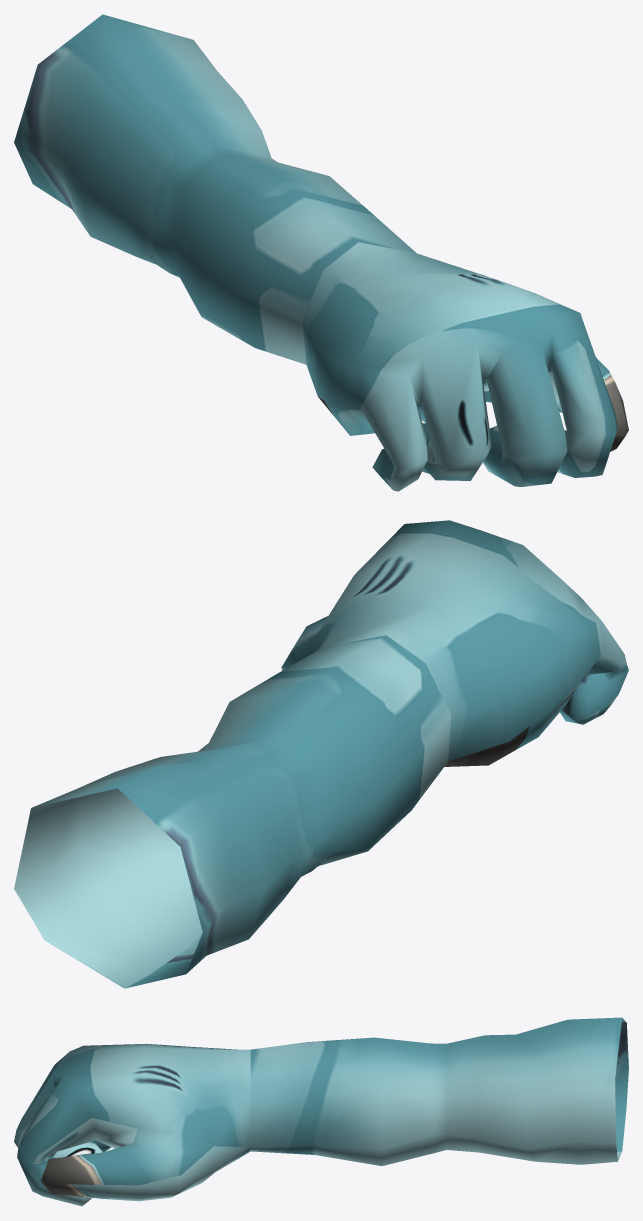
File: eff_mesh_xiaoquanquan_02.FBX
The picture shows the model from 3 angles, top to bottom: view 1: azimuth 30°, elevation 25°; view 2: azimuth 150°, elevation 25°; view 3: azimuth 270°, elevation 25°; orthographic projection. The views are drawn at different scales.
Parts seen in each view (by area): view 1: Pet_wanli; view 2: Pet_wanli; view 3: Pet_wanli.
Boxes of the visible parts, x1,y1,x2,y2 form: Pet_wanli: (14,14,628,491); Pet_wanli: (14,520,628,988); Pet_wanli: (14,1017,628,1206).
Bounding box in the file's own units: 0.1307 × 0.1009 × 0.3653.
